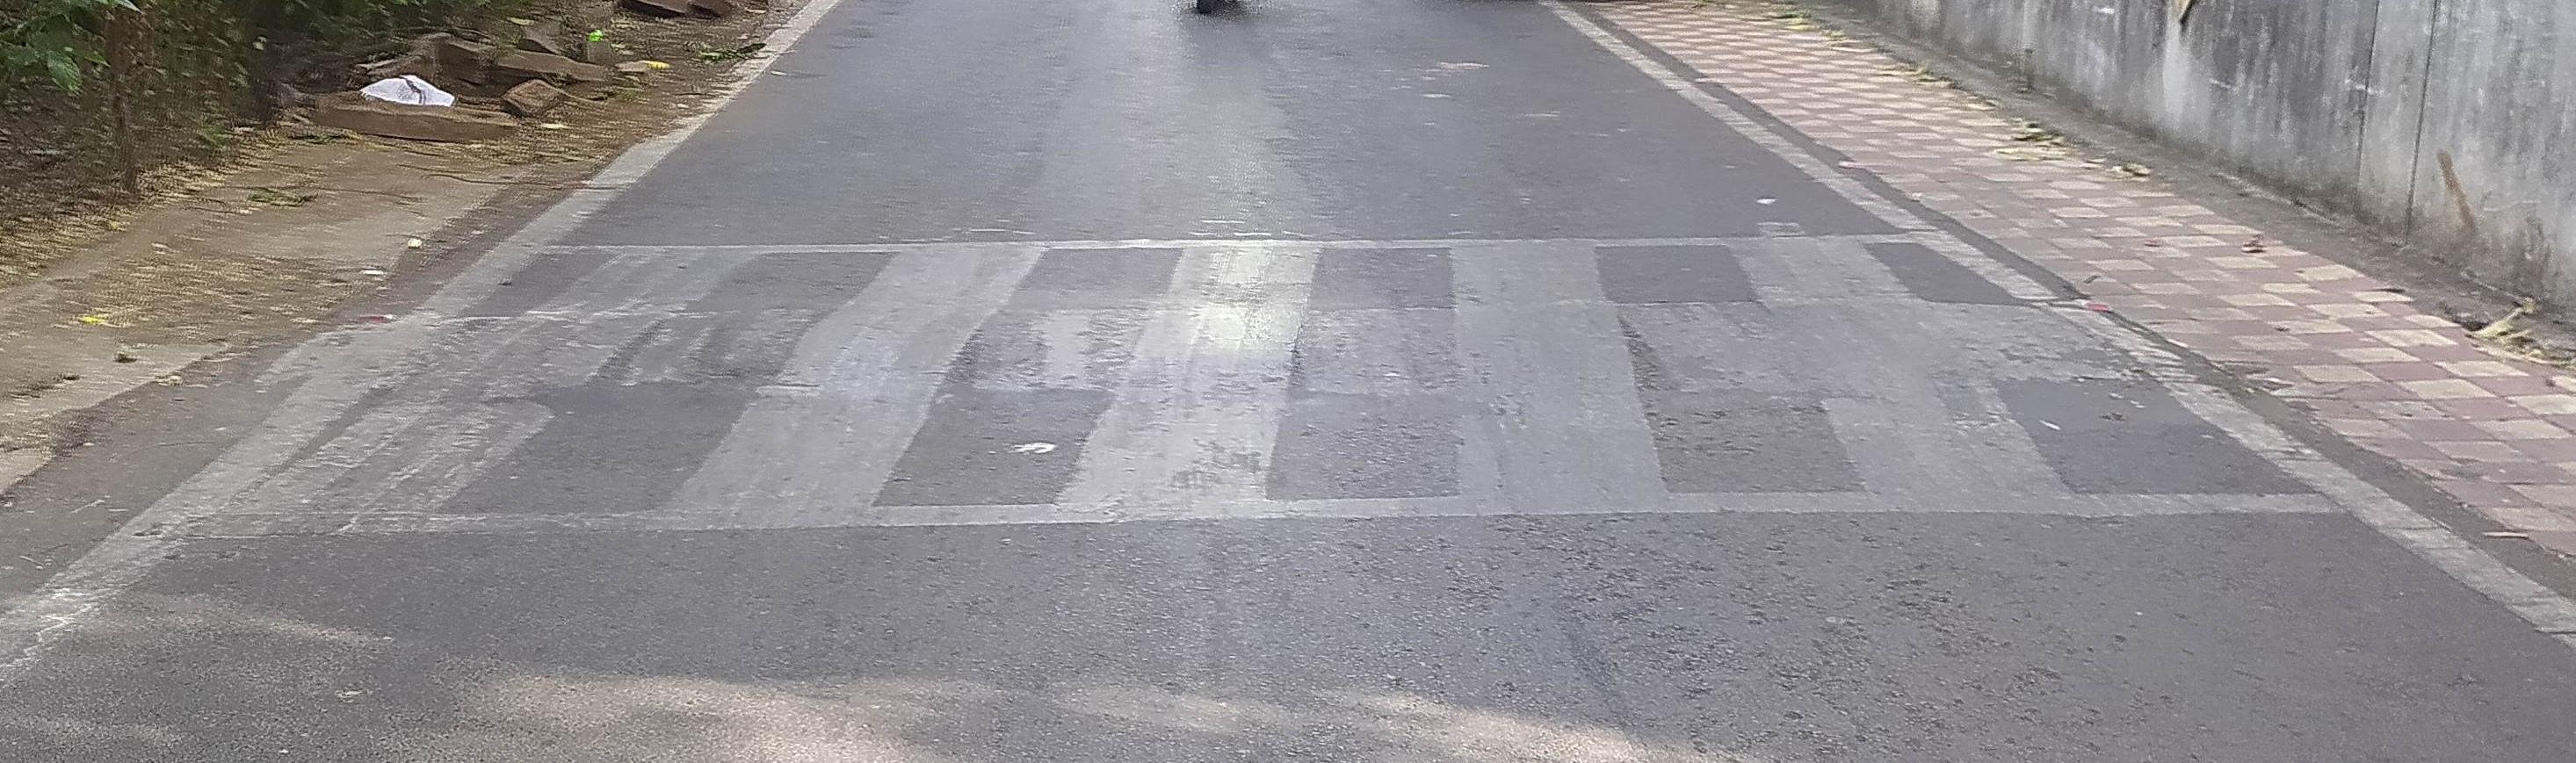speed-bump: (165, 226, 2310, 510)
